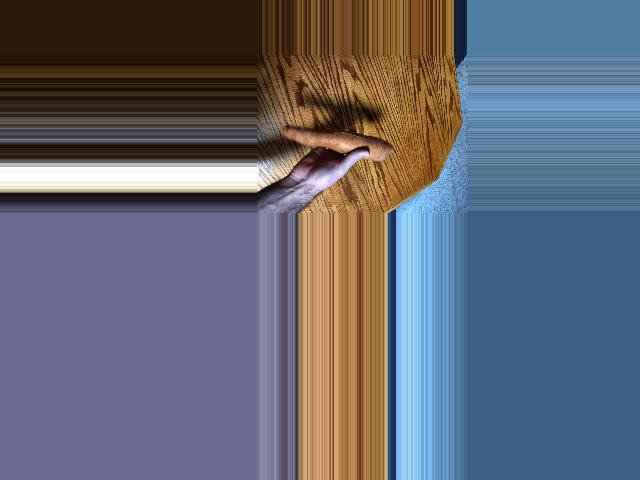sweet_potato: (282, 130, 391, 151)
